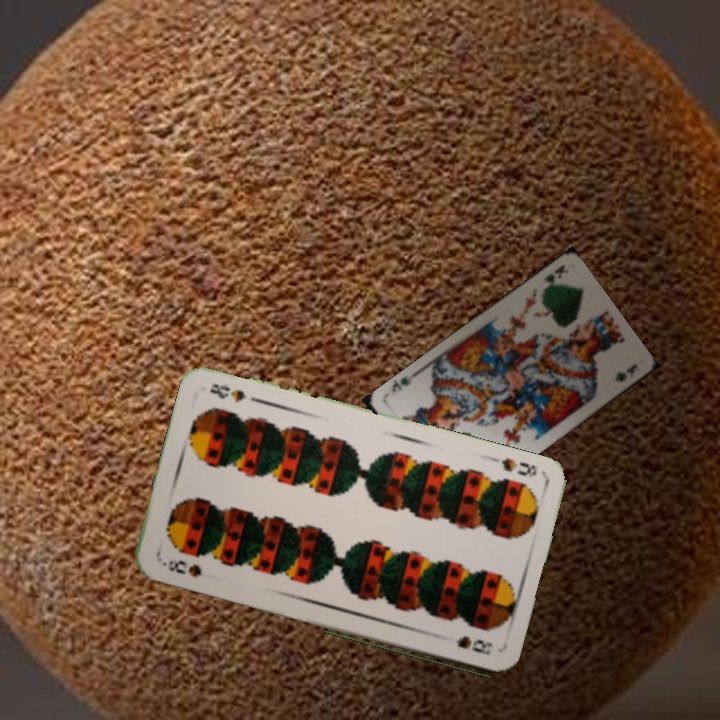GK: (541, 261, 570, 288)
S8: (485, 452, 540, 480), (158, 554, 204, 580)
